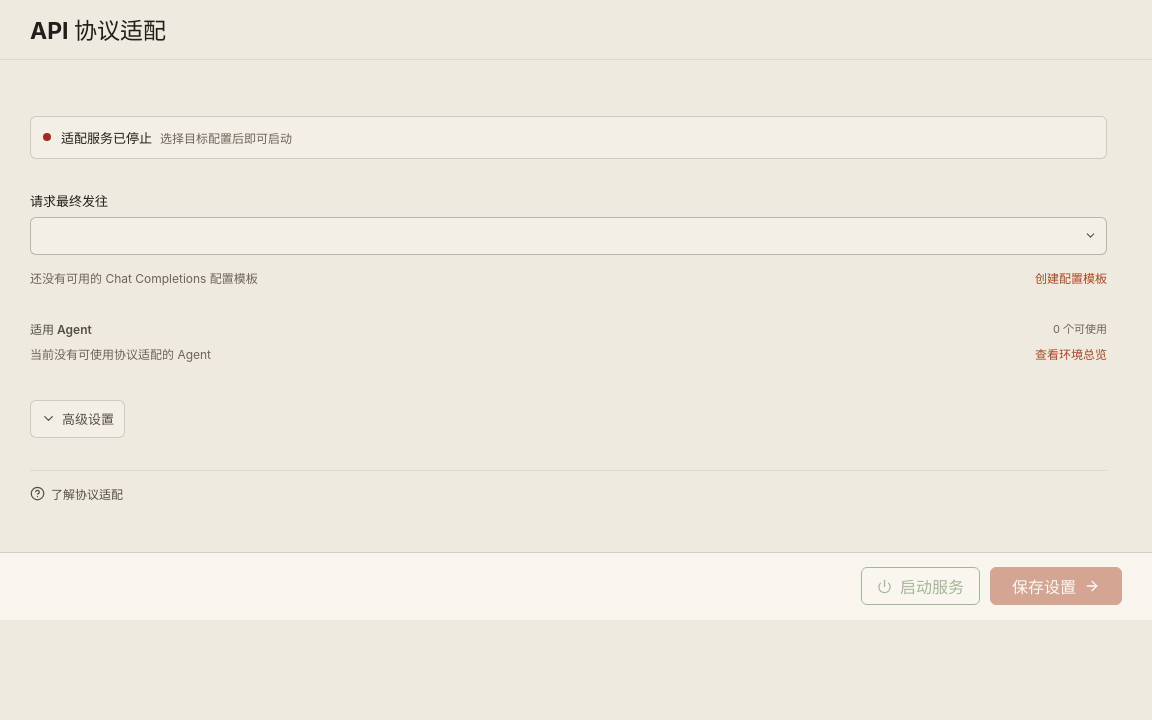
Test case: ConversionPage › does not expose a local API key input
Check: the text "适配服务已停止" is shown, box [61,128,152,147]
What coordinates should you click on to do the following:
click the button "高级设置"
I would click on:
 (78, 419)
Its box is [30,400,125,438].
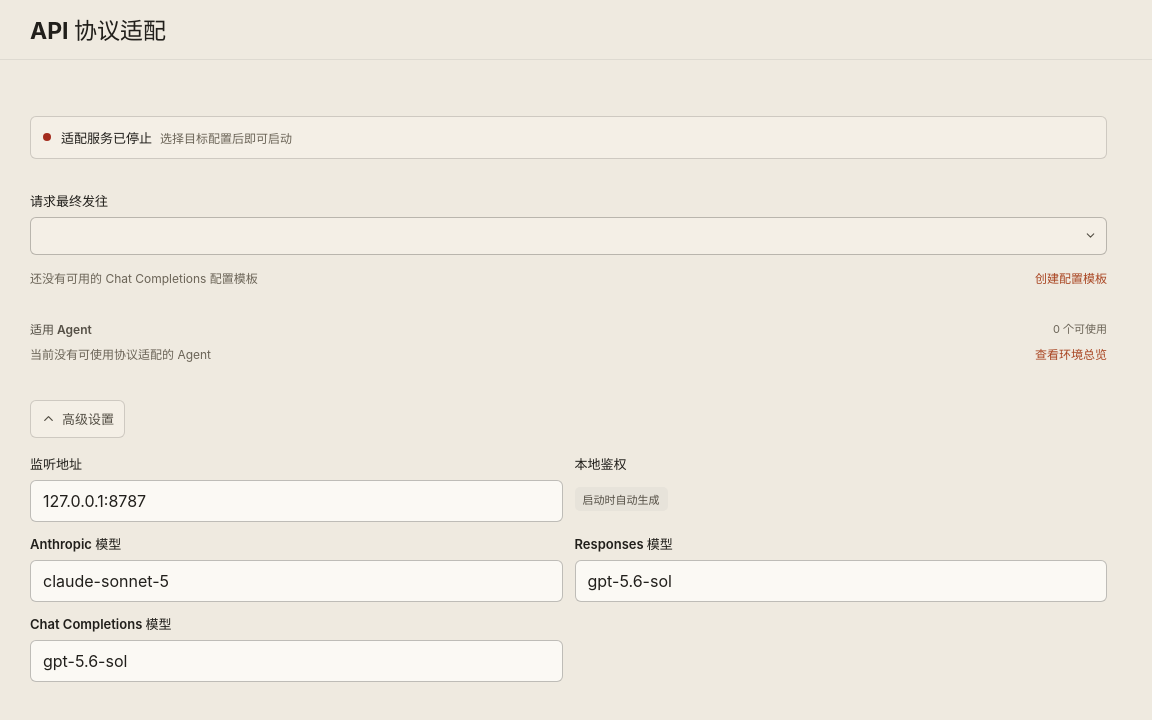
Check: the text "启动时自动生成" is shown, box [574,487,668,511]
